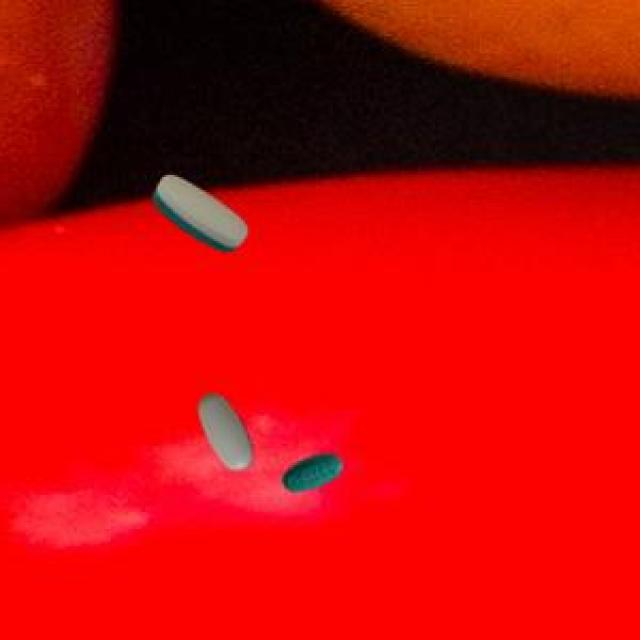Neozep: (142, 164, 260, 260), (190, 376, 260, 479), (275, 444, 350, 502)
